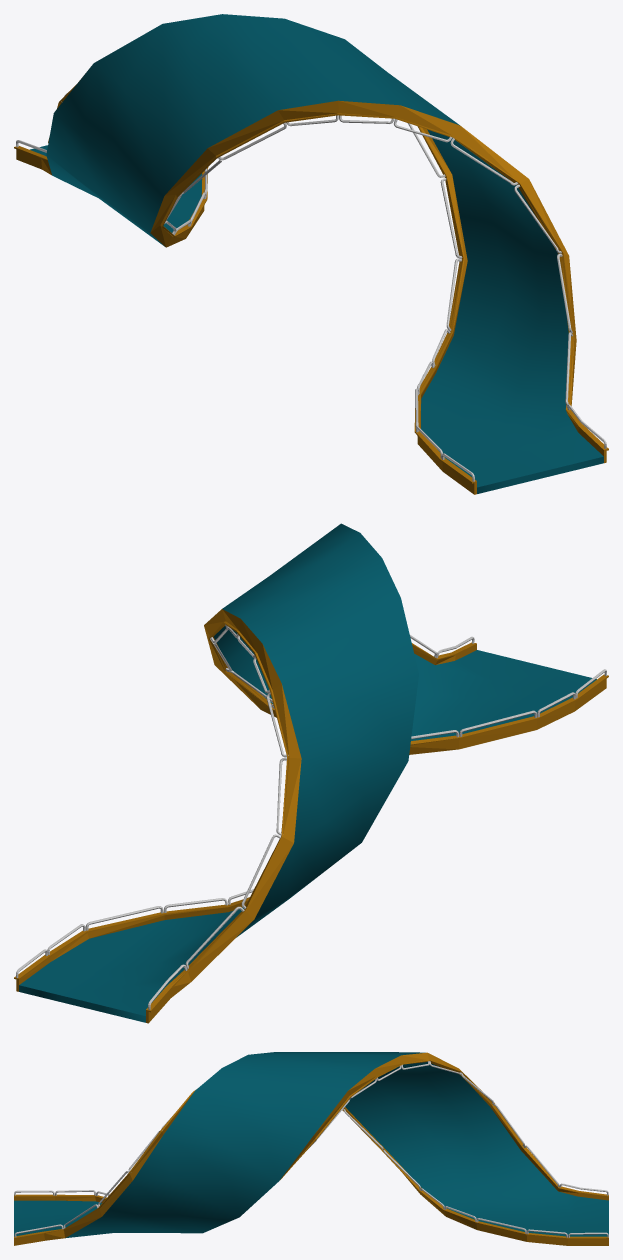
Rendered from corkscrew.FBX.
3 views of the same model, one above another, from view 1: azimuth 30°, elevation 25°; view 2: azimuth 150°, elevation 25°; view 3: azimuth 270°, elevation 25° (orthographic). The views are drawn at different scales.
Visible parts, largest first — view 1: corkscrew_s, wall_l, wall_r; view 2: corkscrew_s, wall_r, wall_l; view 3: corkscrew_s, wall_l, wall_r.
Boxes of the visible parts, x1,y1,x2,y2 form: corkscrew_s: (30,14,603,493); wall_l: (150,100,608,463); wall_r: (14,73,476,494); corkscrew_s: (19,523,596,1022); wall_r: (146,609,608,1023); wall_l: (14,634,476,991); corkscrew_s: (14,1052,608,1238); wall_l: (14,1090,608,1245); wall_r: (14,1052,608,1202).
Size of what is drawn, in the model's own units: 369 by 1200 by 363.
